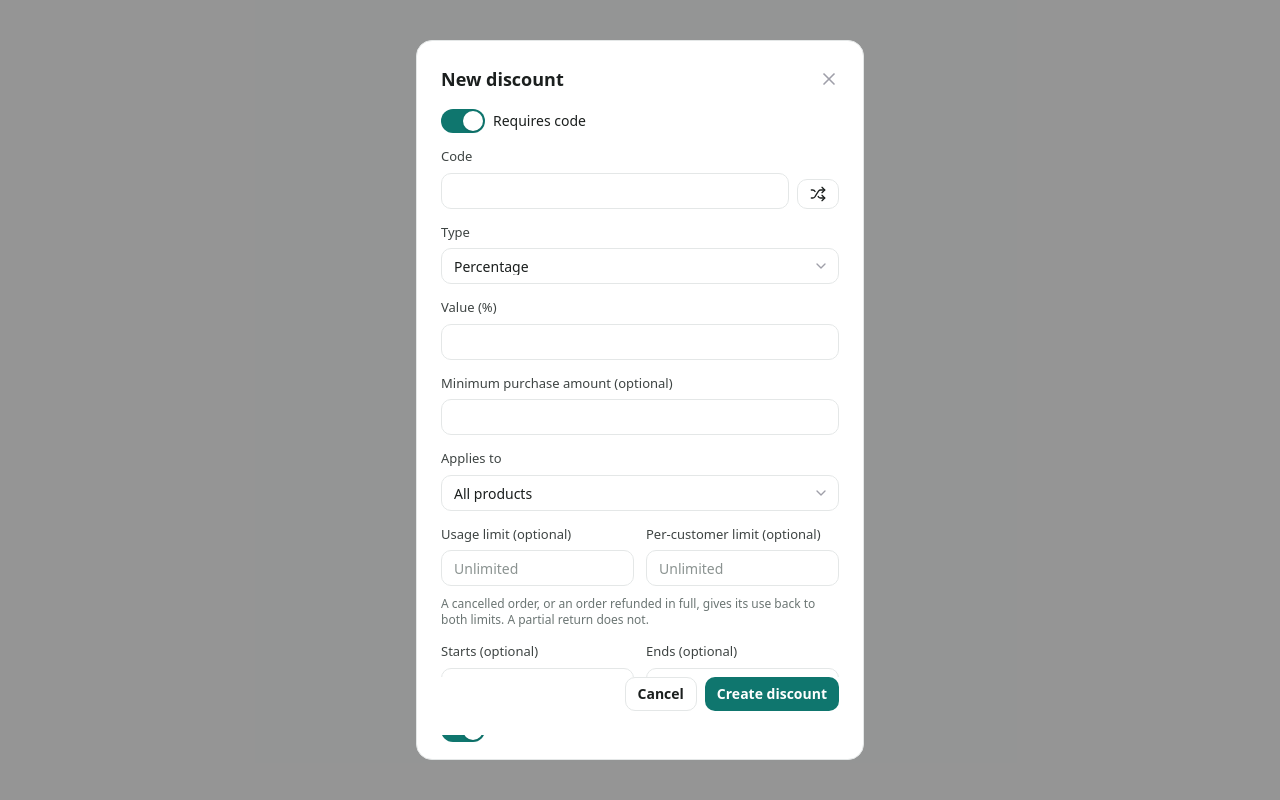
Scenario: DiscountFormModal — requires-code toggle › toggling off hides the Code input, removes 'All products' from Applies to, and shows the auto-apply hint
Click the switch at (463, 121), box [441,109,485,133]
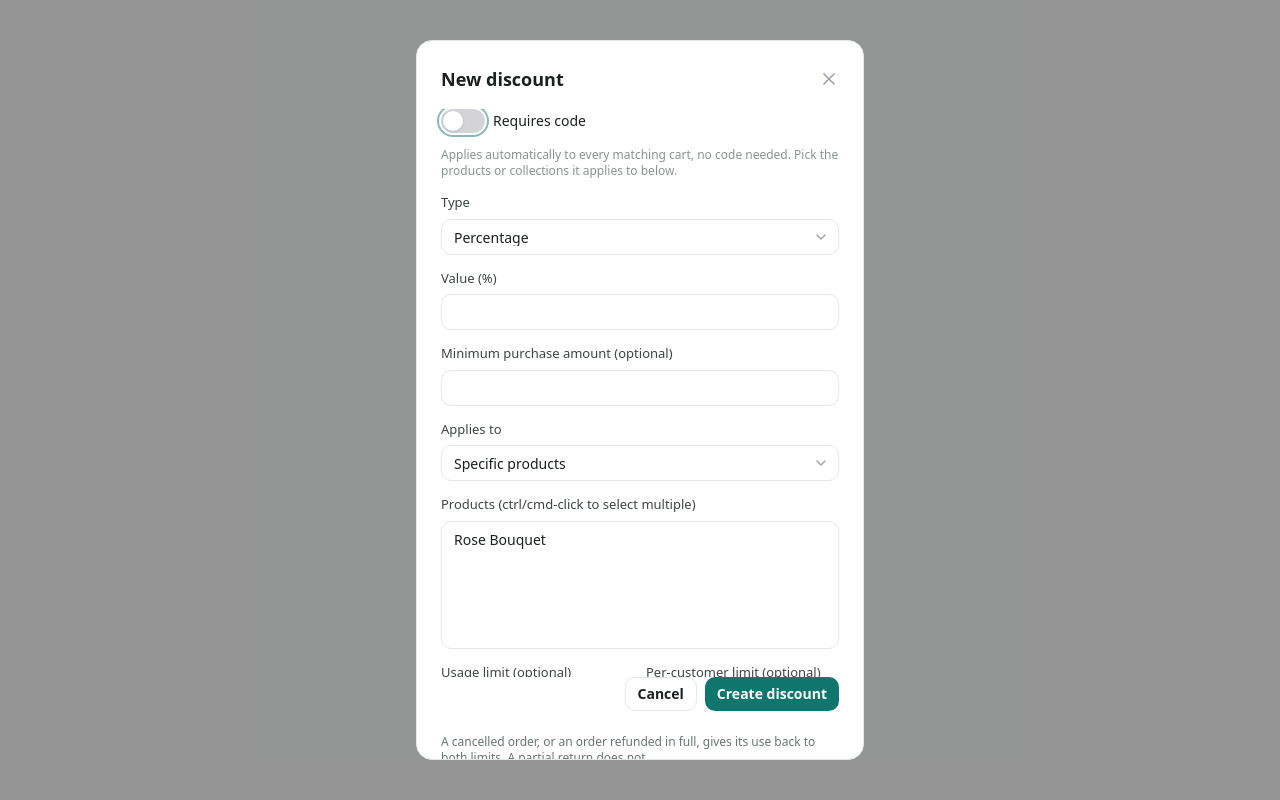
Check: the text "Applies automatically to every matching cart" is shown, box [441,146,838,179]
